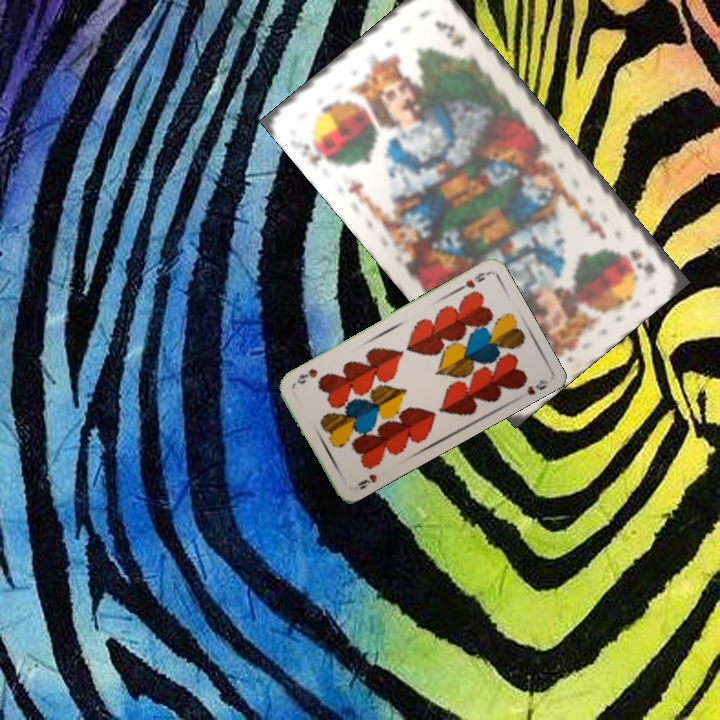H9: (454, 268, 491, 293), (354, 470, 380, 492)
SK: (625, 245, 658, 281), (291, 136, 325, 169)
